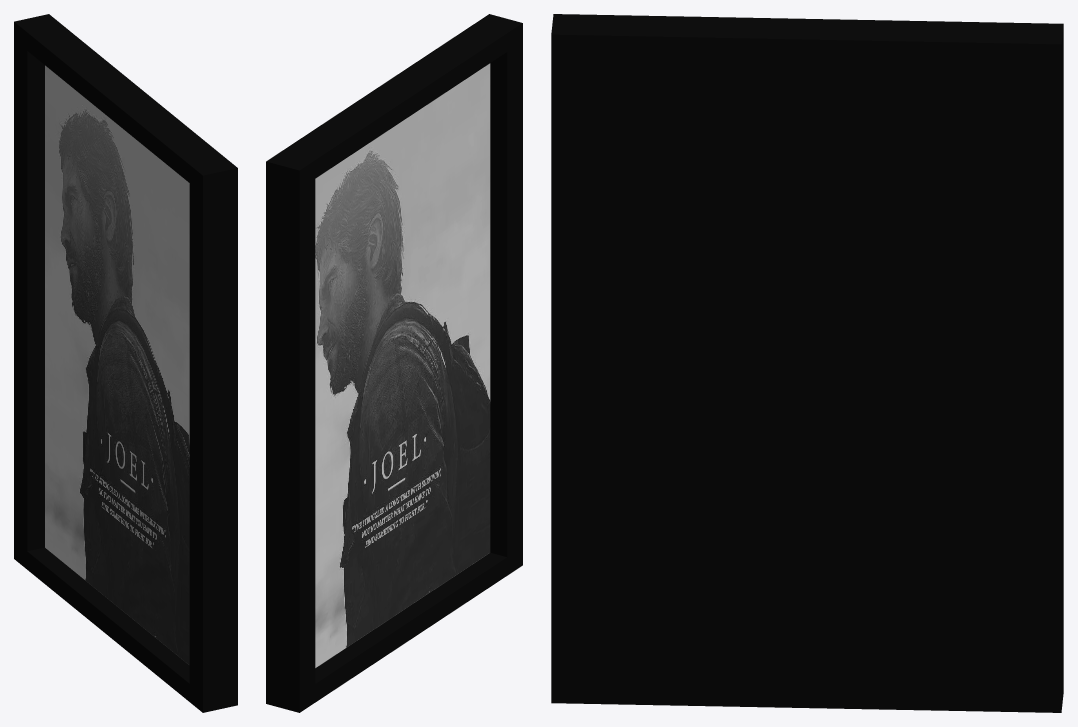
The model's file is joel-Cw2-E8Xa.glb.
The picture shows the model from 3 angles, left to right: view 1: azimuth 30°, elevation 25°; view 2: azimuth 150°, elevation 25°; view 3: azimuth 270°, elevation 25°; orthographic projection. The views are drawn at different scales.
Visible parts, largest first — view 1: StudyShelf_1509; view 2: StudyShelf_1509; view 3: StudyShelf_1509.
Boxes of the visible parts, bbox=[...] form: StudyShelf_1509: bbox=[14, 14, 237, 712]; StudyShelf_1509: bbox=[266, 14, 522, 712]; StudyShelf_1509: bbox=[551, 14, 1063, 712].
Bounding box in the file's own units: 14.87 × 152 × 106.
Materials: 2 (1 with a texture image).
